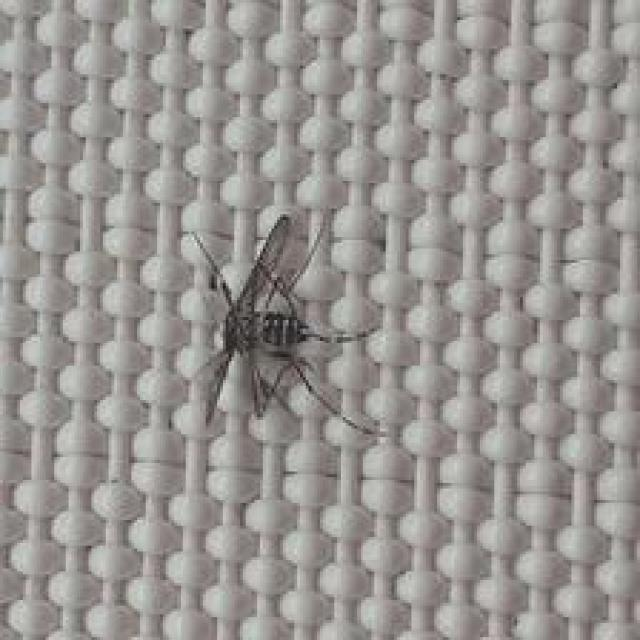Aedes albopictus: (185, 210, 382, 436)
